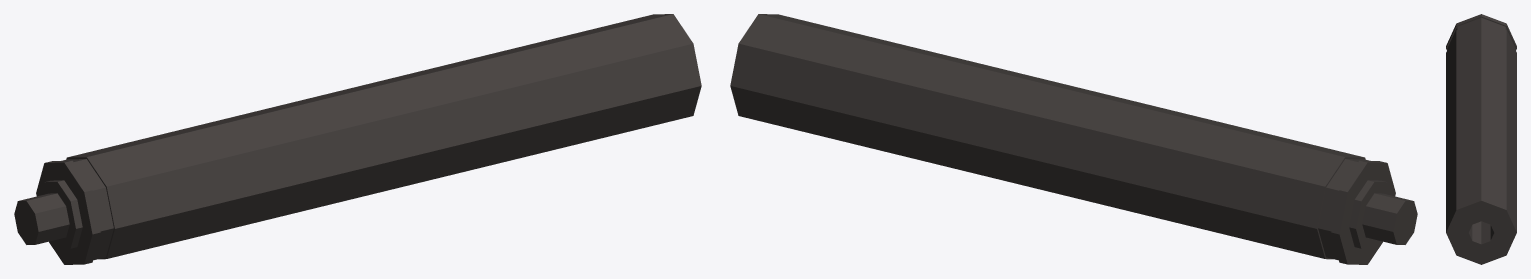
The model's file is Muffler_01_5.fbx.
3 views of the same model, side by side, from view 1: azimuth 30°, elevation 25°; view 2: azimuth 150°, elevation 25°; view 3: azimuth 270°, elevation 25° (orthographic). The views are drawn at different scales.
Visible parts, largest first — view 1: Muffler_01_5; view 2: Muffler_01_5; view 3: Muffler_01_5.
Part boxes in pixels (left/top/right/bottom): Muffler_01_5: left=14, top=14, right=701, bottom=264; Muffler_01_5: left=730, top=14, right=1417, bottom=264; Muffler_01_5: left=1446, top=14, right=1516, bottom=264.
Bounding box in the file's own units: 0.2491 × 0.0376 × 0.0376.
